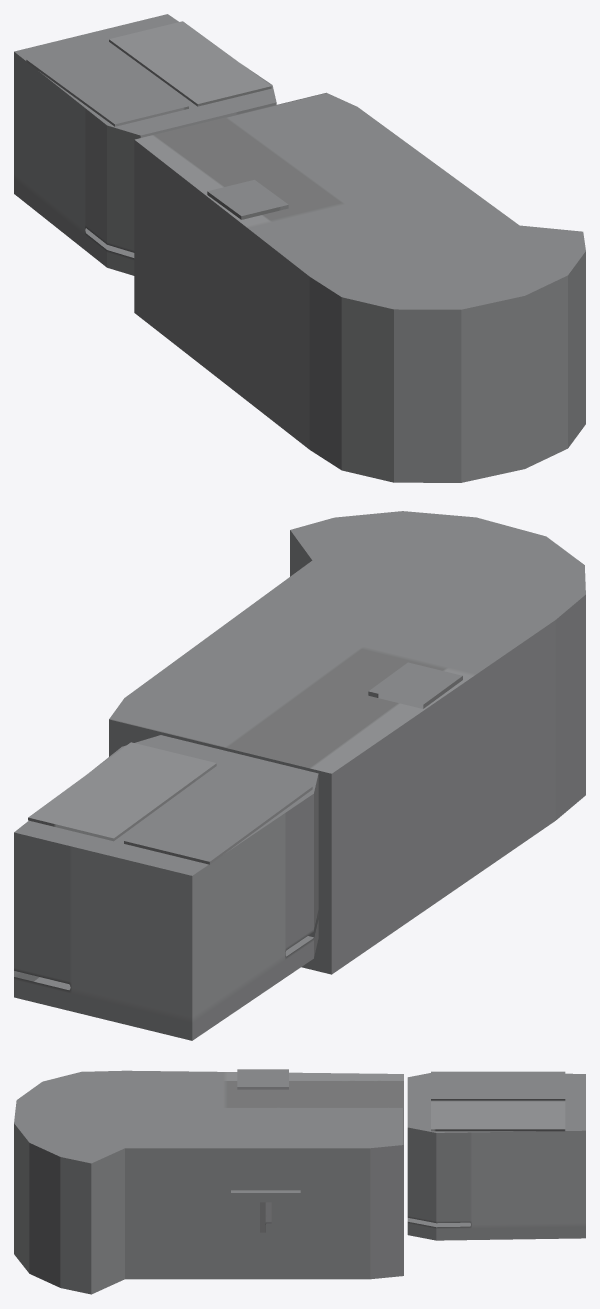
3 renders of one model, top to bottom at view 1: azimuth 30°, elevation 25°; view 2: azimuth 150°, elevation 25°; view 3: azimuth 270°, elevation 25°, orthographic. The views are drawn at different scales.
Bounding box in the file's own units: 0.85 × 0.575 × 2.21.
